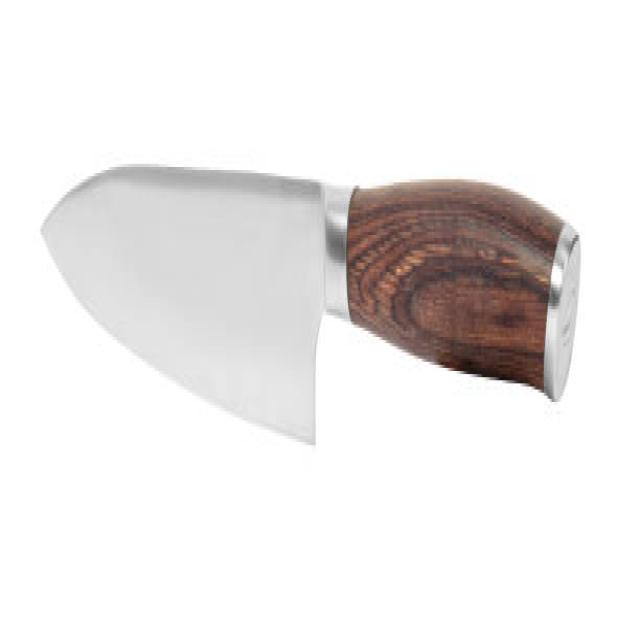knife: (34, 133, 583, 458)
